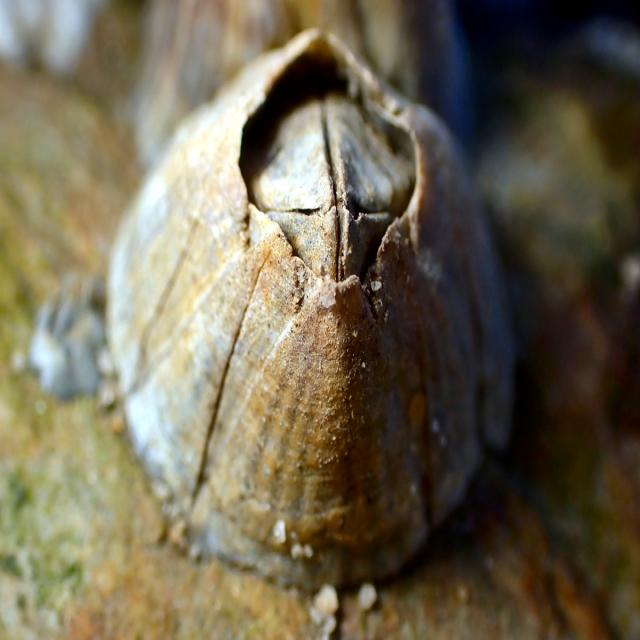barnacles: (98, 24, 520, 589)
